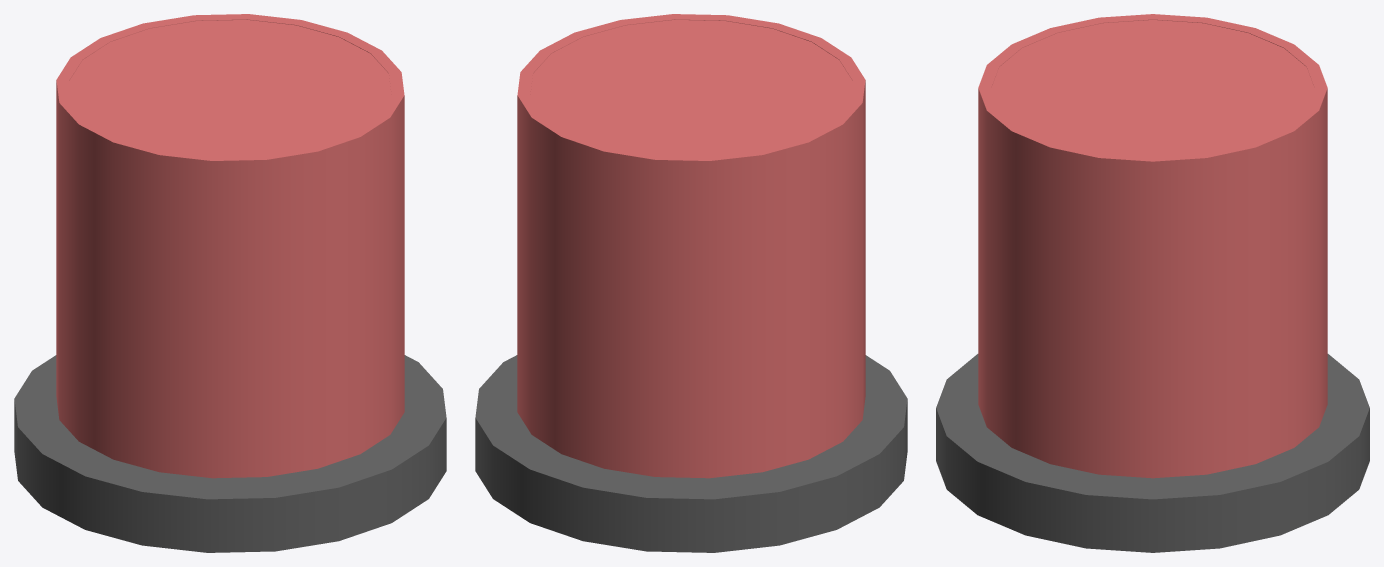
Rendered from Intruder Alarm.fbx.
The picture shows the model from 3 angles, left to right: view 1: azimuth 30°, elevation 25°; view 2: azimuth 150°, elevation 25°; view 3: azimuth 270°, elevation 25°; orthographic projection.
Visible parts, largest first — view 1: pCylinder2, pCylinder1, pCylinder3; view 2: pCylinder2, pCylinder1, pCylinder3; view 3: pCylinder2, pCylinder1, pCylinder3.
Boxes of the visible parts, left/top/right/bottom form: pCylinder2: left=56, top=14, right=404, bottom=478; pCylinder1: left=14, top=355, right=446, bottom=552; pCylinder3: left=69, top=20, right=391, bottom=155; pCylinder2: left=517, top=14, right=865, bottom=478; pCylinder1: left=475, top=355, right=907, bottom=552; pCylinder3: left=530, top=20, right=852, bottom=155; pCylinder2: left=978, top=14, right=1327, bottom=478; pCylinder1: left=936, top=354, right=1369, bottom=552; pCylinder3: left=991, top=20, right=1314, bottom=155.
Size of the model in its own units: 2.48 by 2.36 by 2.48.
